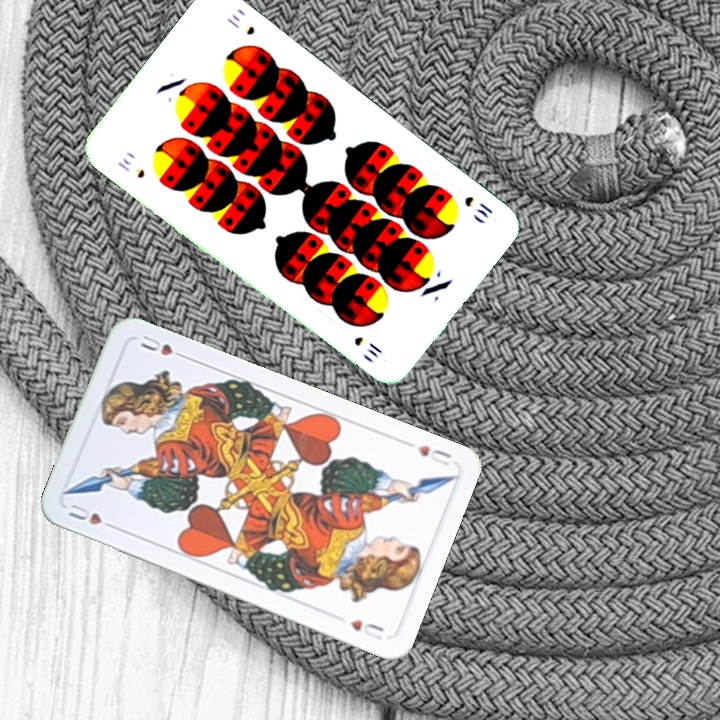HU: (64, 500, 120, 533), (413, 441, 454, 468)
S10: (460, 191, 496, 221), (113, 153, 148, 181)
